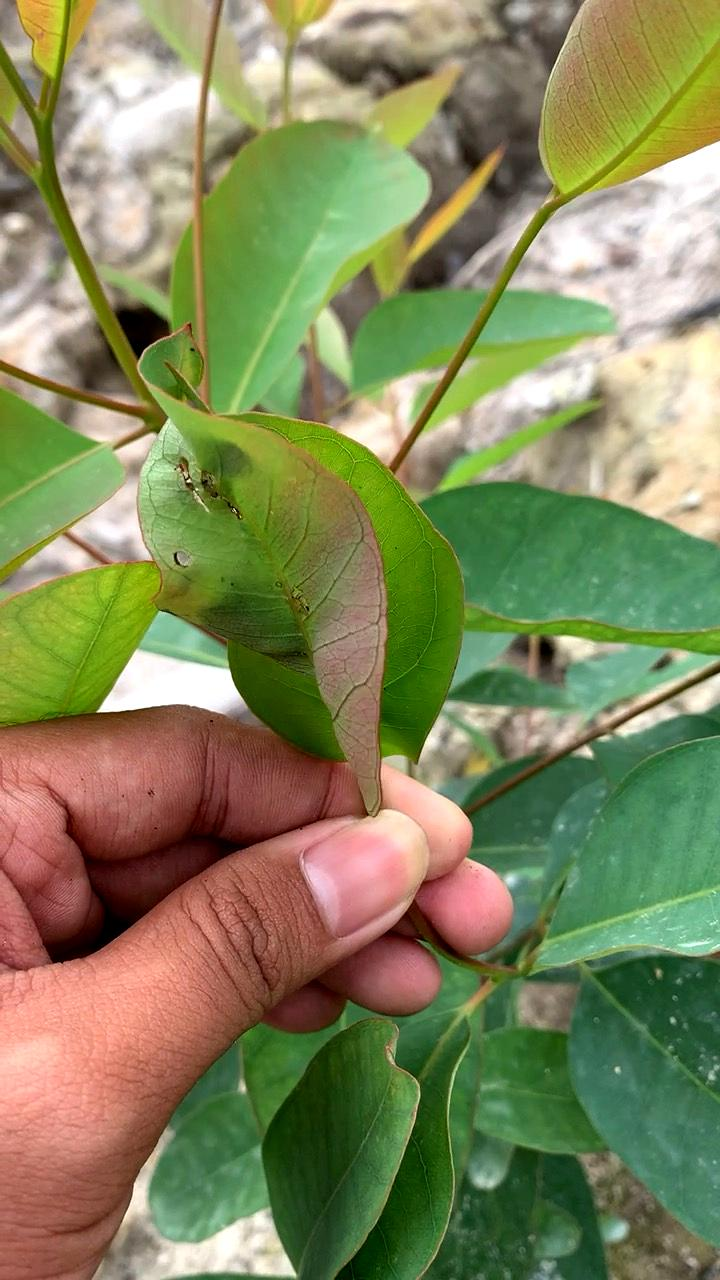Leaf Roller - Leaf: (133, 303, 488, 820)
